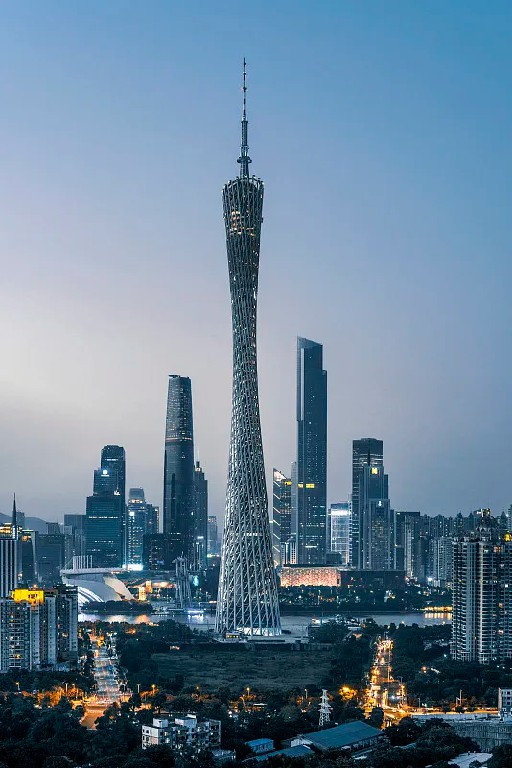Canton: (211, 55, 286, 637)
